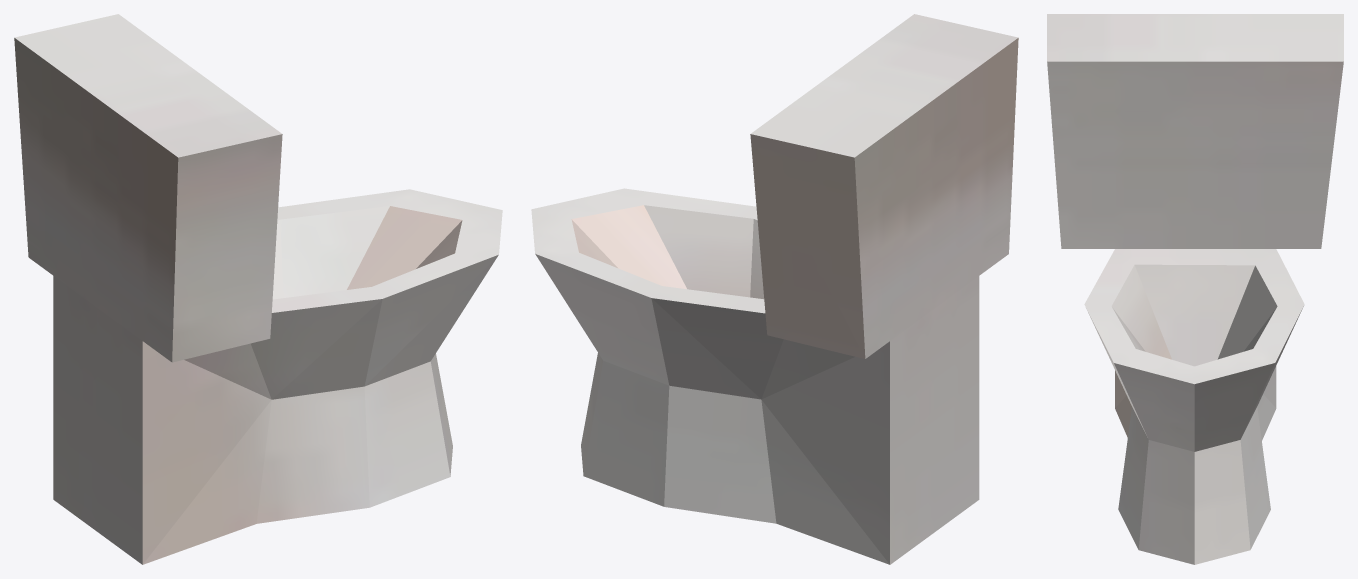
The model's file is toilet.glb.
3 renders of one model, left to right at view 1: azimuth 30°, elevation 25°; view 2: azimuth 150°, elevation 25°; view 3: azimuth 270°, elevation 25°, orthographic. The views are drawn at different scales.
Parts seen in each view (by area): view 1: Toilet; view 2: Toilet; view 3: Toilet.
Part boxes in pixels (x1=…): Toilet: x1=14, y1=14, x2=502, y2=564; Toilet: x1=531, y1=14, x2=1018, y2=564; Toilet: x1=1047, y1=14, x2=1343, y2=564.
Size of the model in its own units: 1.44 by 1.47 by 1.01.
1 material, 1 textured.
